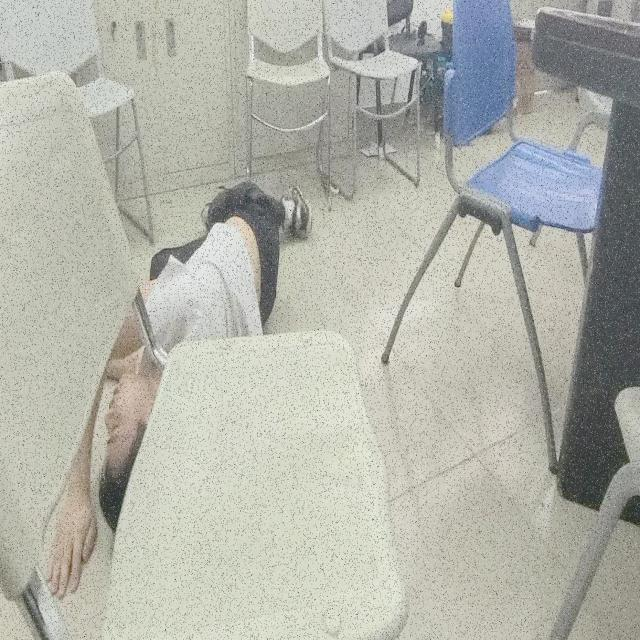fall: (45, 176, 314, 606)
